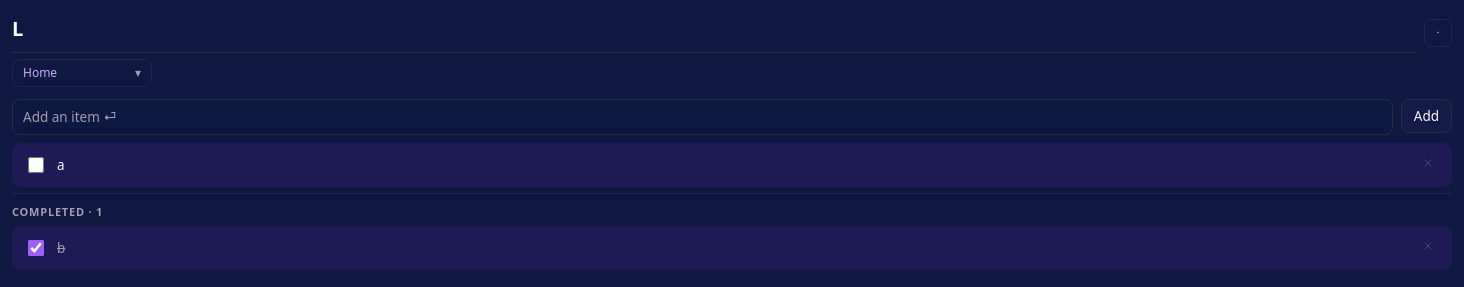
Test: ChecklistView › category applies via dropdown — selecting an option commits update_checklist (Save button gone)
Check: the text "a" is shown, box x1=57 y1=156 x2=65 y2=174
Step 1. Click the button with aria-label "Category" → {"x": 82, "y": 73}, box x1=12 y1=59 x2=152 y2=87
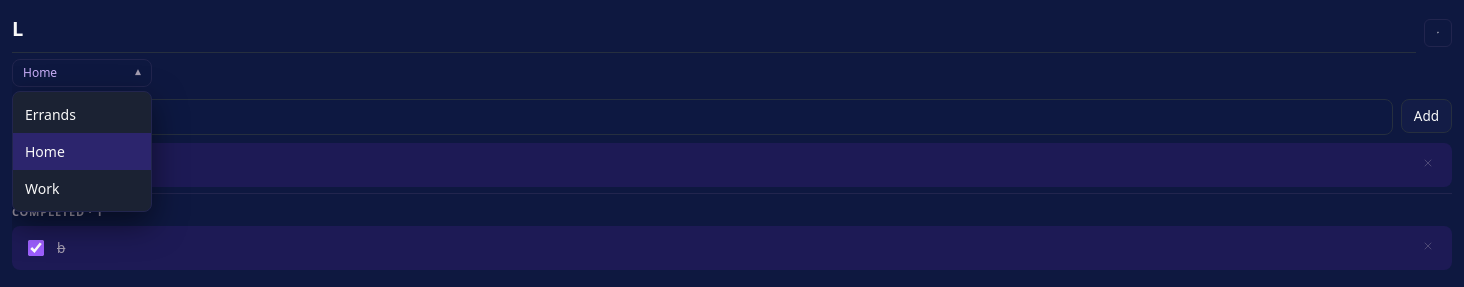
Step 2. Click the option "Work" → {"x": 82, "y": 188}, box x1=13 y1=170 x2=151 y2=207
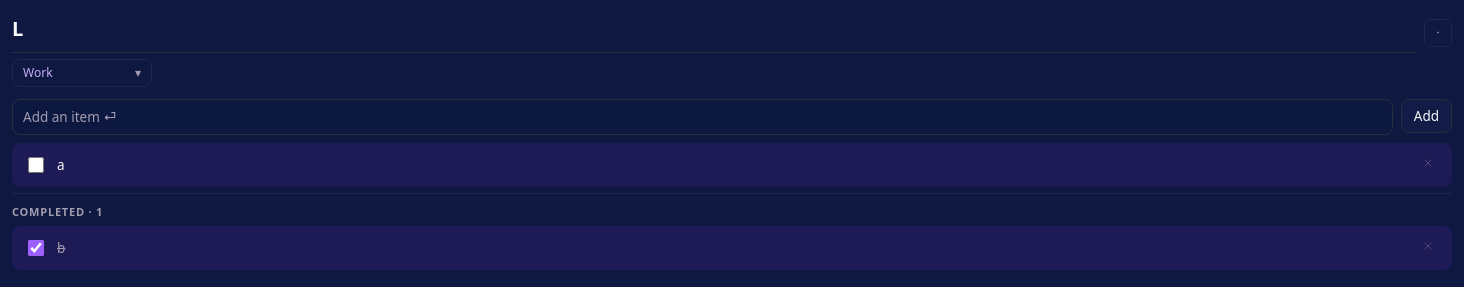
Check: no buttons "Home" are shown
